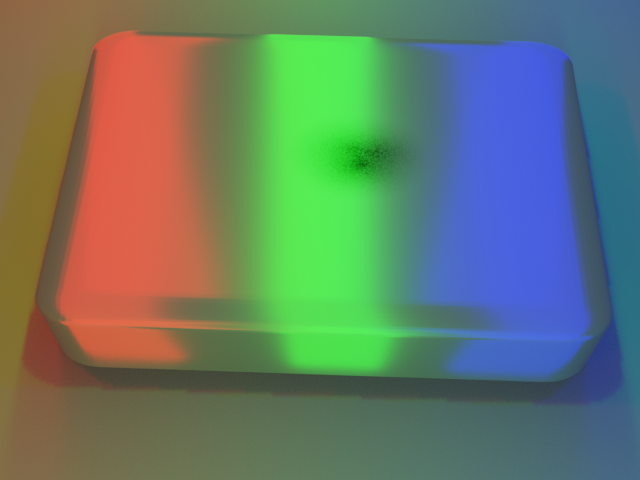stain: (254, 96, 471, 219)
